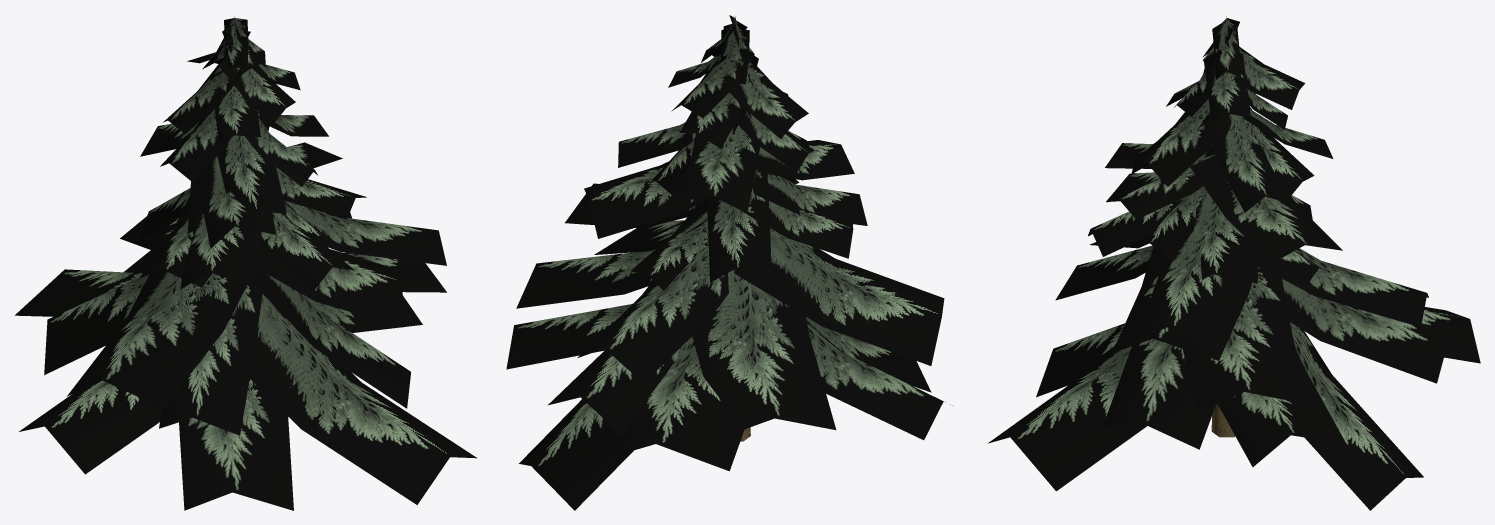
Rendered from tree.fbx.
3 views of the same model, side by side, from view 1: azimuth 30°, elevation 25°; view 2: azimuth 150°, elevation 25°; view 3: azimuth 270°, elevation 25° (orthographic). The views are drawn at different scales.
Visible parts, largest first — view 1: Tree.001; view 2: Tree.001; view 3: Tree.001.
Part boxes in pixels (x1,y1,x2,y2): Tree.001: [15, 16, 477, 510]; Tree.001: [506, 15, 952, 510]; Tree.001: [988, 16, 1480, 510].
Size of the model in its own units: 395 by 416 by 428.
1 material, 1 textured.
